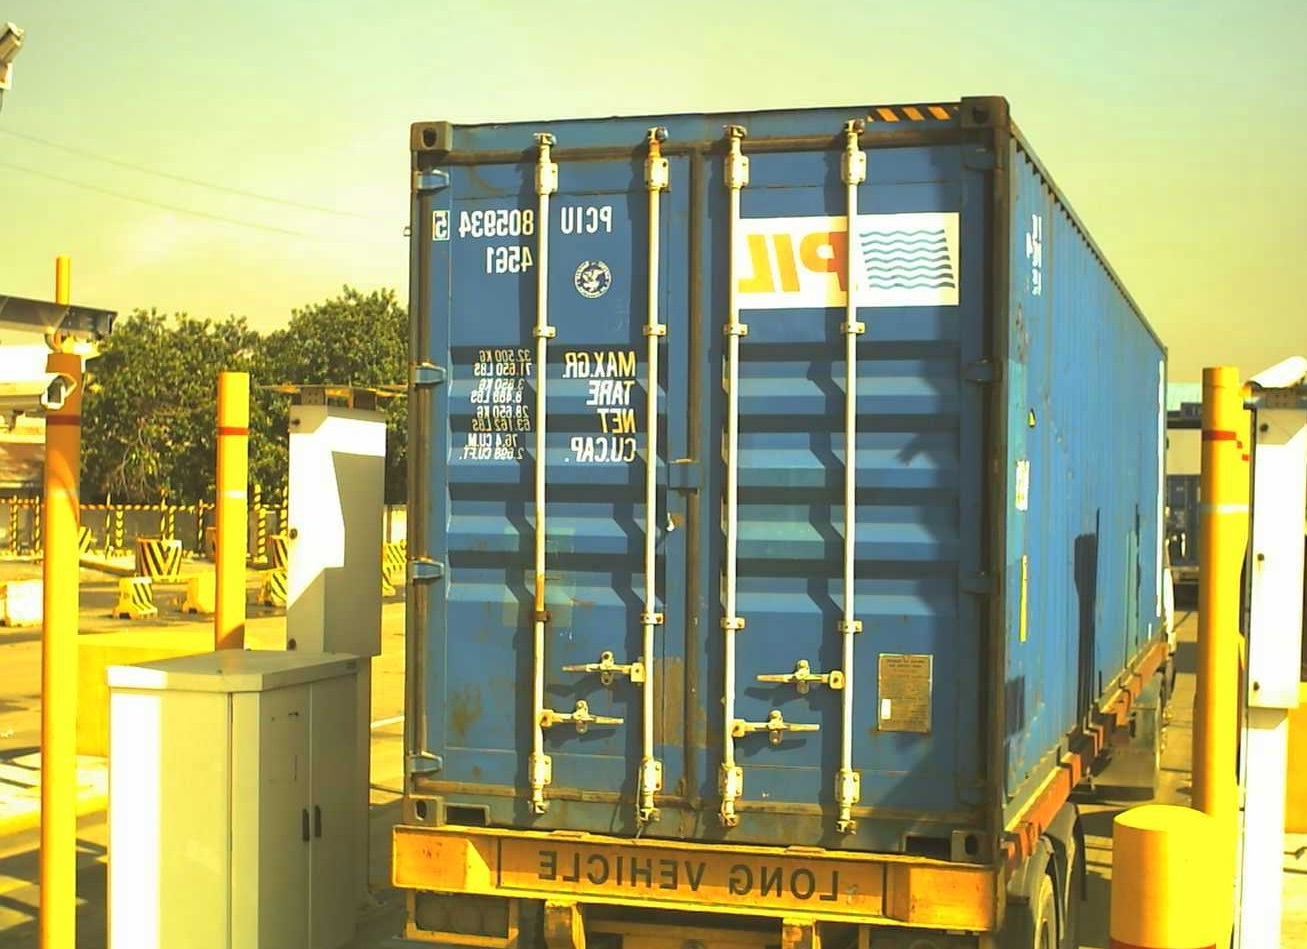container_door: (404, 115, 1004, 863)
